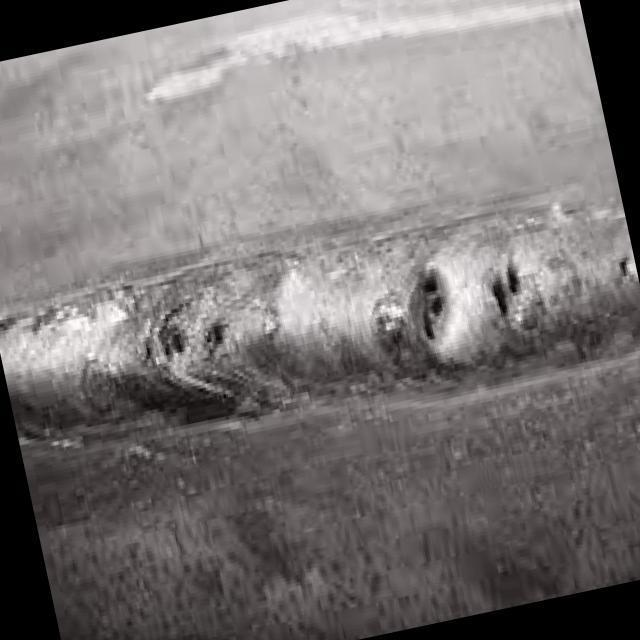defect: (414, 264, 450, 353), (137, 311, 185, 366), (487, 253, 519, 327), (195, 304, 228, 360), (612, 247, 632, 284)
